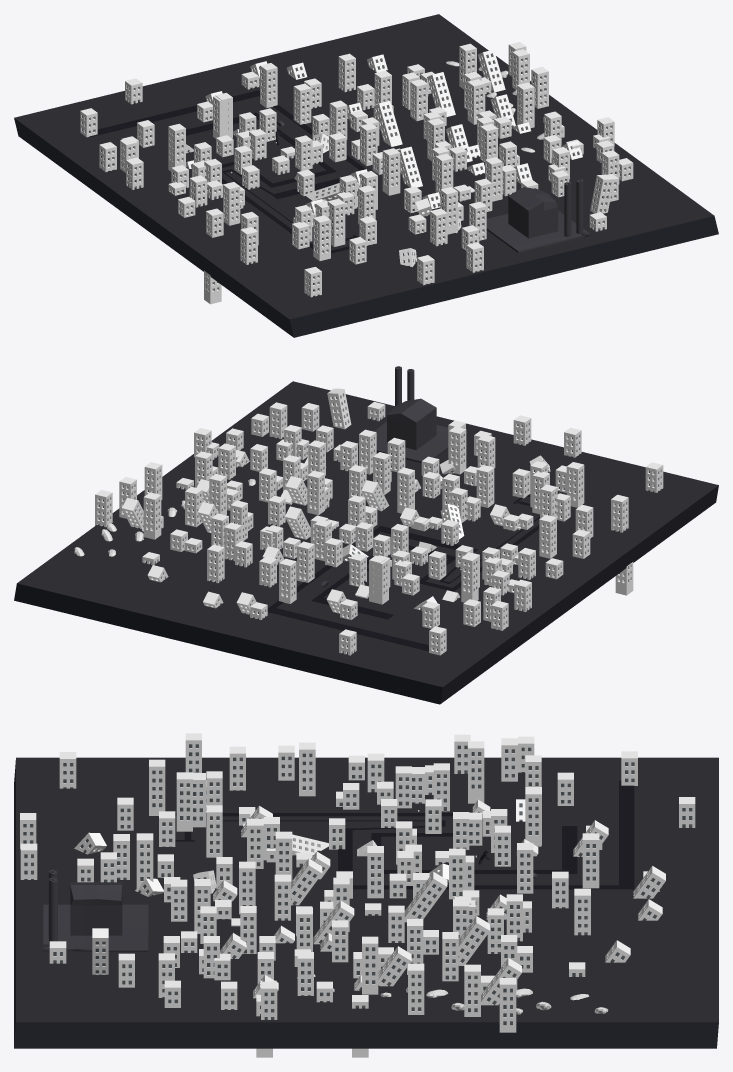
The model's file is mappu121.fbx.
The picture shows the model from 3 angles, top to bottom: view 1: azimuth 30°, elevation 25°; view 2: azimuth 150°, elevation 25°; view 3: azimuth 270°, elevation 25°; orthographic projection. The views are drawn at different scales.
Parts seen in each view (by area): view 1: Cylinder.003, Cube.074, Cube.005, Cube.084, Cube.142, Cube.061, Cube.181, Cube.009, Cube.081, Cube.129, Cube.183, Cube.185 (+23 smaller); view 2: Cylinder.003, Cube.180, Cube.142, Cube.077, Cube.084, Cube.061, Cube.001, Cube.074, Cube.009, Cube.011, Cube.095, Cube.071 (+18 smaller); view 3: Cylinder.003, Cube.005, Cube.142, Cube.081, Cube.061, Cube.181, Cube.182, Cube.132, Cube.084, Cube.009, Cube.077, Cube.003 (+62 smaller).
Boxes of the visible parts, <box> form: Cylinder.003: <box>14,14,718,337</box>; Cube.074: <box>382,148,400,195</box>; Cube.005: <box>373,101,402,146</box>; Cube.084: <box>313,215,330,260</box>; Cube.142: <box>168,123,185,171</box>; Cube.061: <box>260,63,277,108</box>; Cube.181: <box>517,82,534,128</box>; Cube.009: <box>223,182,240,225</box>; Cube.081: <box>327,198,345,246</box>; Cube.129: <box>293,83,311,124</box>; Cube.183: <box>467,79,485,124</box>; Cube.185: <box>427,72,455,116</box>; Cylinder.003: <box>14,366,718,704</box>; Cube.180: <box>143,492,161,539</box>; Cube.142: <box>461,553,478,602</box>; Cube.077: <box>448,426,466,474</box>; Cube.084: <box>566,462,584,507</box>; Cube.061: <box>279,558,296,603</box>; Cube.001: <box>307,470,324,515</box>; Cube.074: <box>397,467,414,513</box>; Cube.009: <box>539,515,556,558</box>; Cube.011: <box>476,465,494,507</box>; Cube.095: <box>327,388,351,429</box>; Cube.071: <box>371,559,388,604</box>; Cylinder.003: <box>14,757,718,1048</box>; Cube.005: <box>404,872,447,922</box>; Cube.142: <box>468,741,484,803</box>; Cube.081: <box>176,772,192,831</box>; Cube.061: <box>582,833,599,888</box>; Cube.181: <box>362,936,378,994</box>; Cube.182: <box>499,978,516,1032</box>; Cube.132: <box>525,787,541,846</box>; Cube.084: <box>149,759,165,815</box>; Cube.009: <box>299,742,315,796</box>; Cube.077: <box>136,833,153,891</box>; Cube.003: <box>367,846,383,898</box>.
Bounding box in the file's own units: 94148 × 22072 × 105108.
3 materials, 2 textured.
